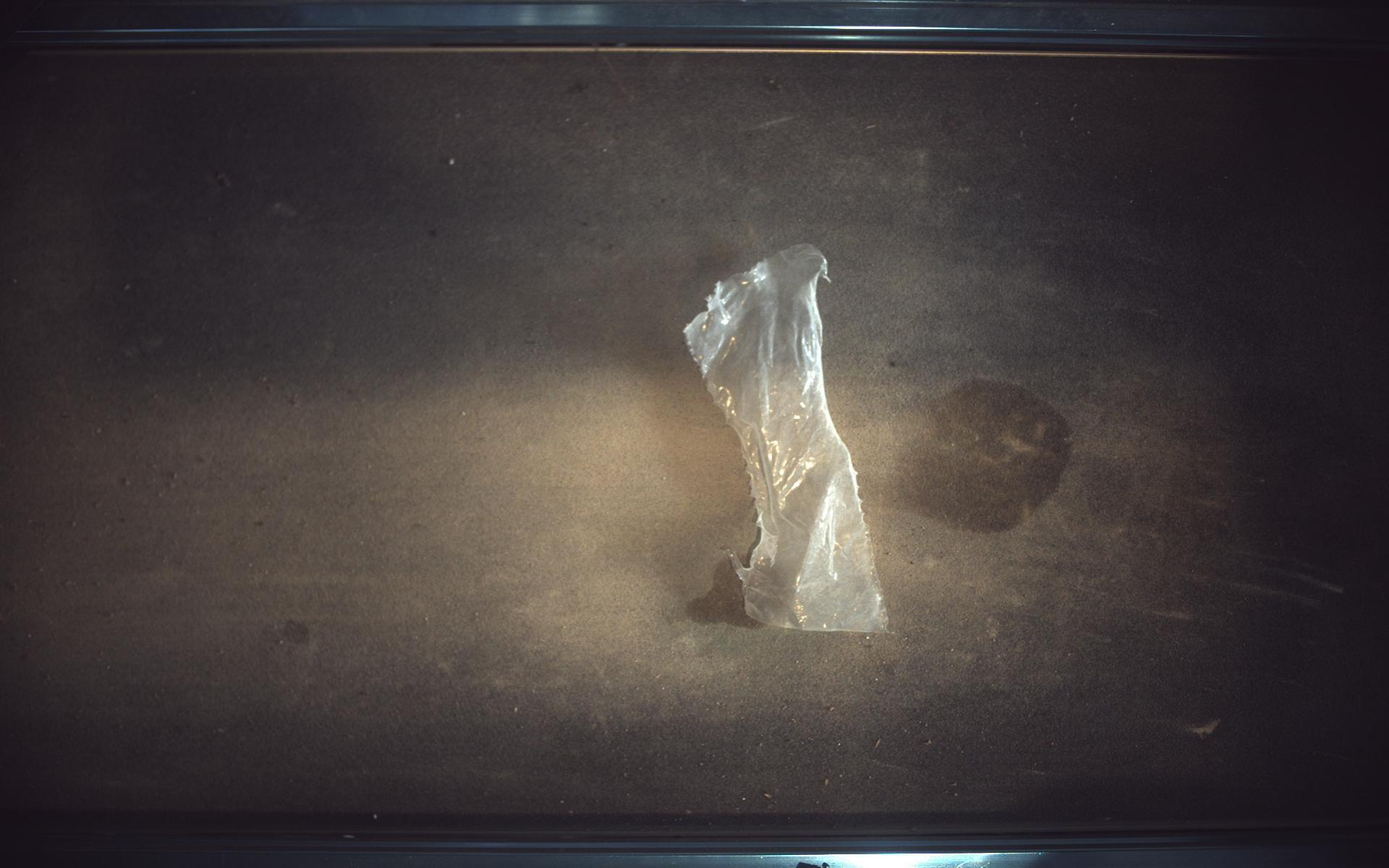general_w: (686, 244, 889, 633)
